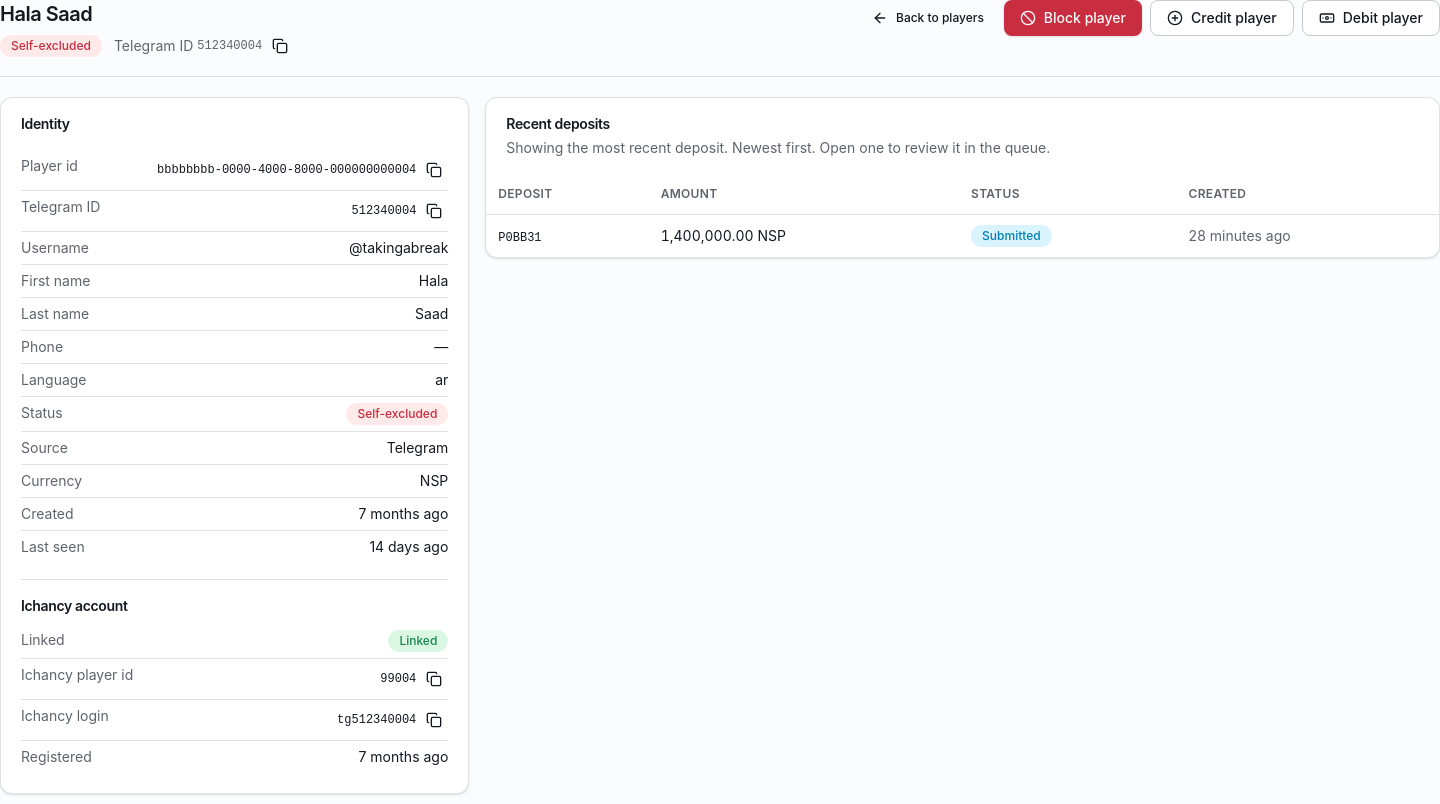
Test: PlayerDetailPage: taking money back out › says plainly when nobody knows whether the debit landed
Click the button "Debit player".
click(1371, 18)  # box [1302, 0, 1439, 36]
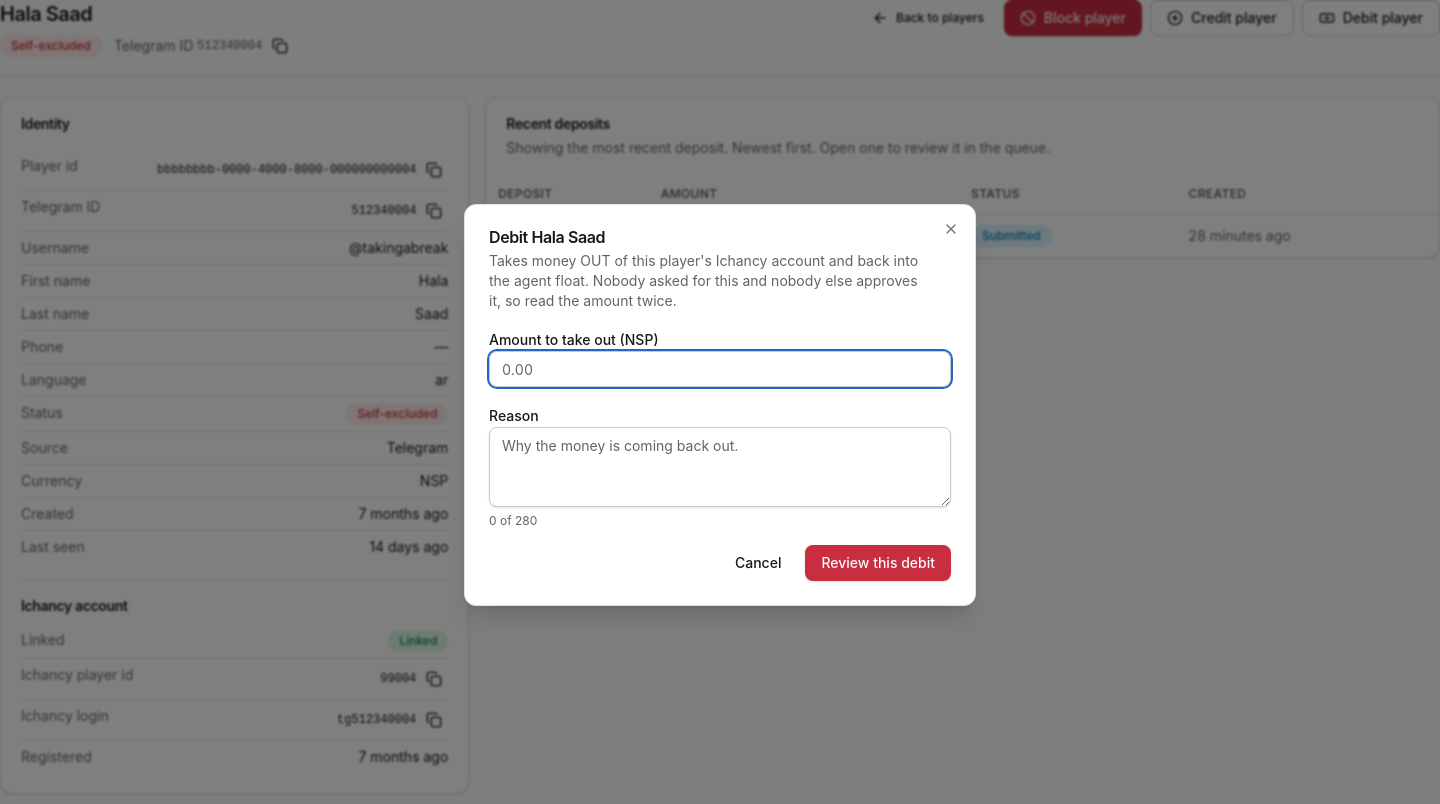
Type "100.00" into the field labelled "Amount to take out (NSP)".
click(720, 369); type("100.00")  # box [489, 351, 951, 387]
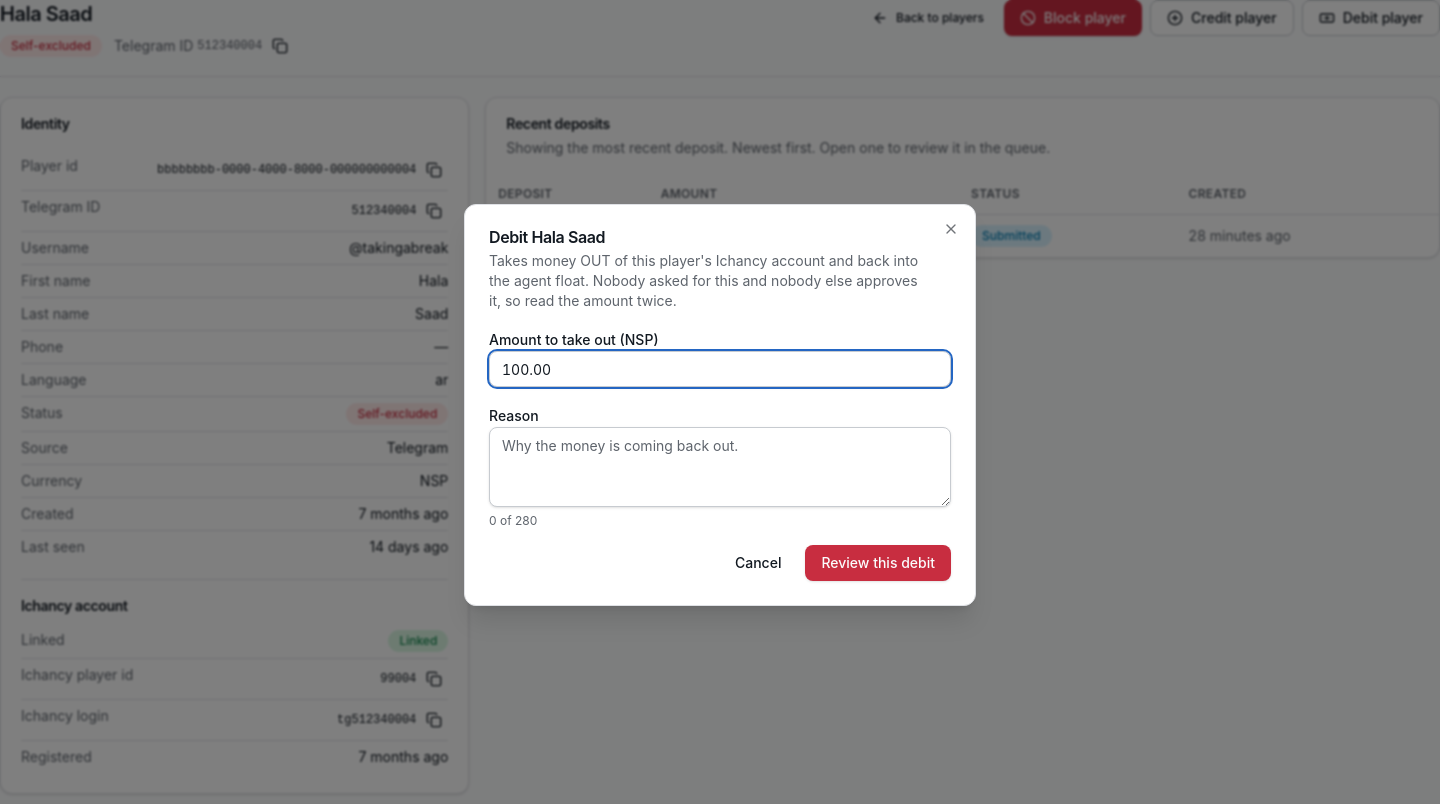
Type "Self-exclusion settlement" into the text box labelled "Reason".
click(720, 467); type("Self-exclusion settlement")  # box [489, 427, 951, 507]
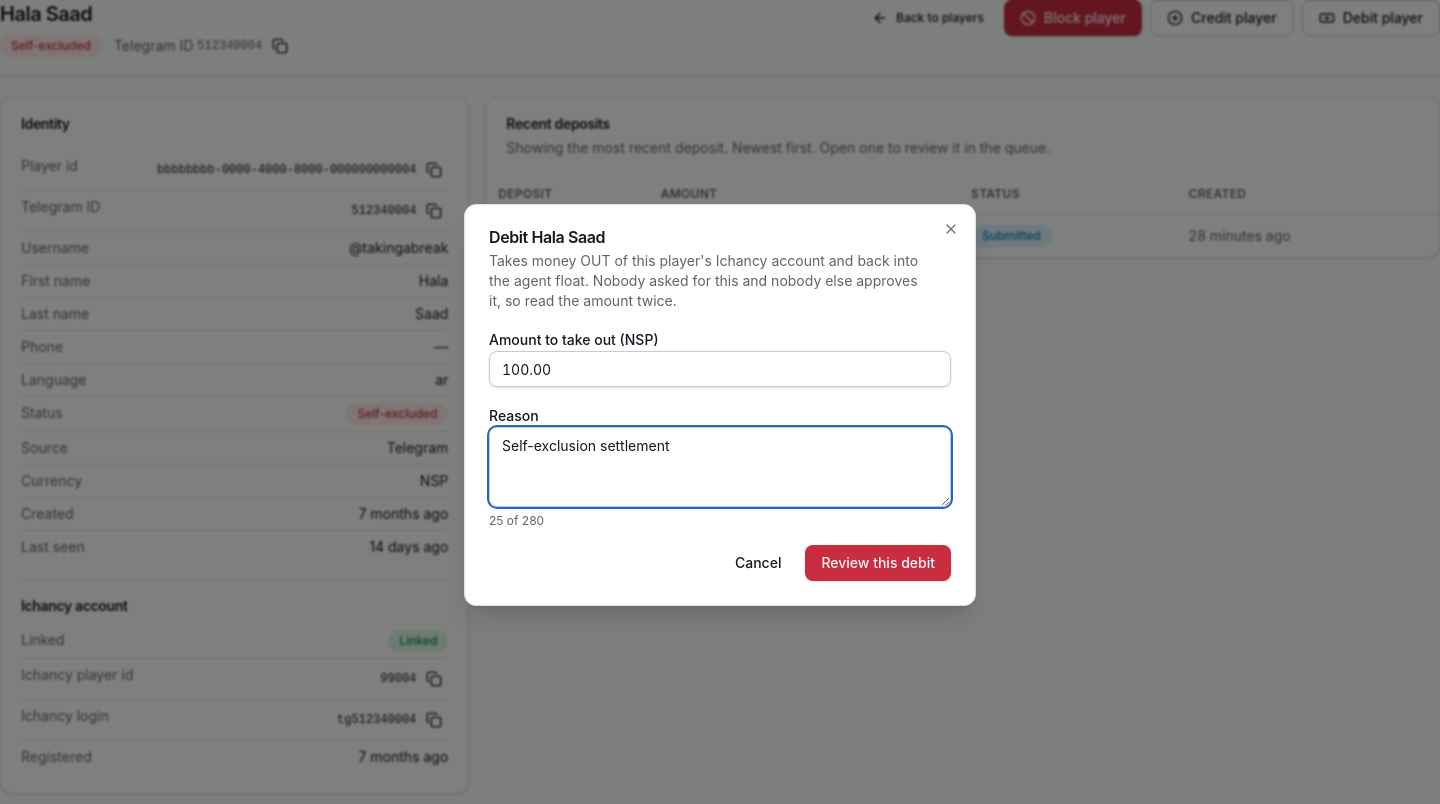
Click the button "Review this debit".
click(878, 563)  # box [805, 545, 951, 581]
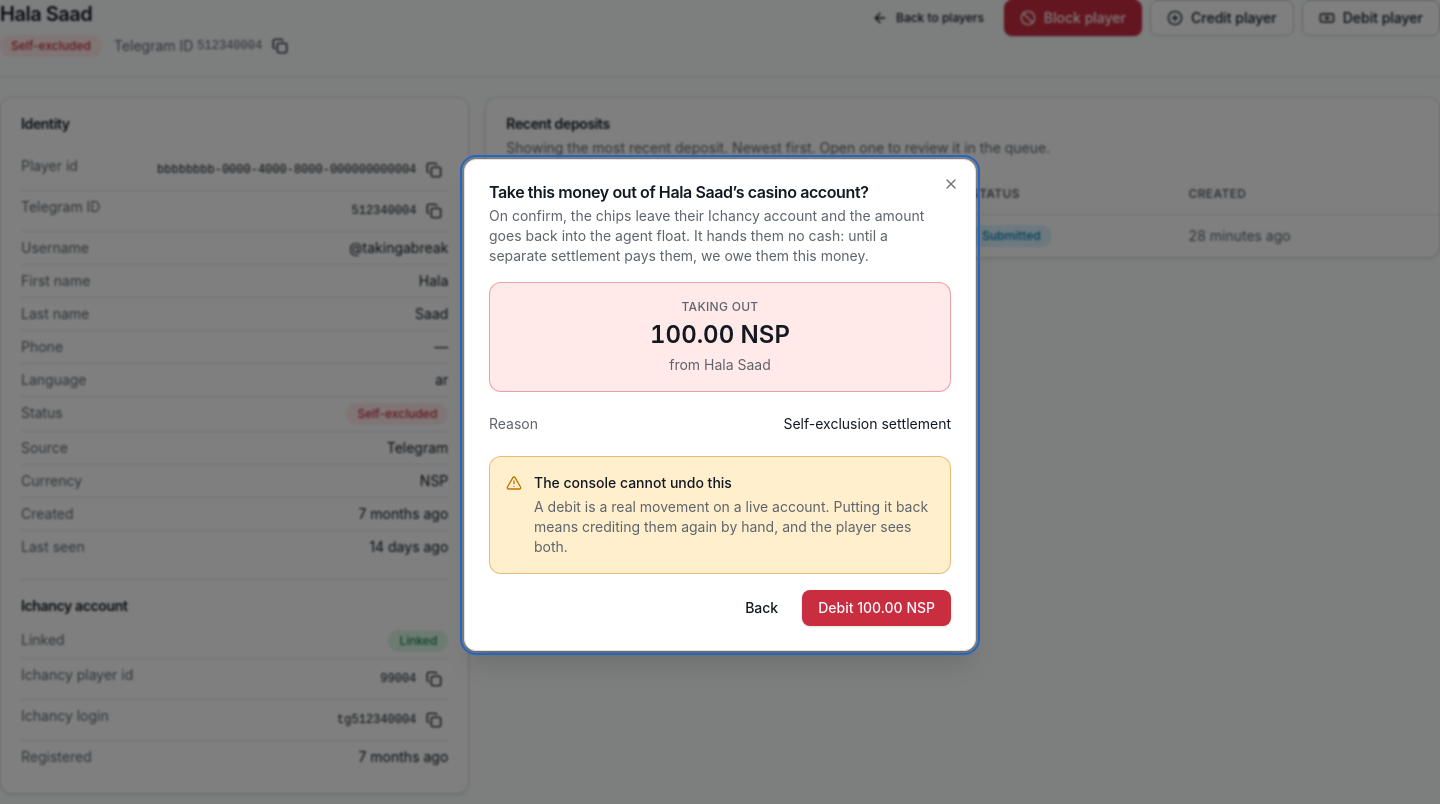
Click the button "Debit 100.00 NSP".
click(877, 608)  # box [802, 590, 951, 626]
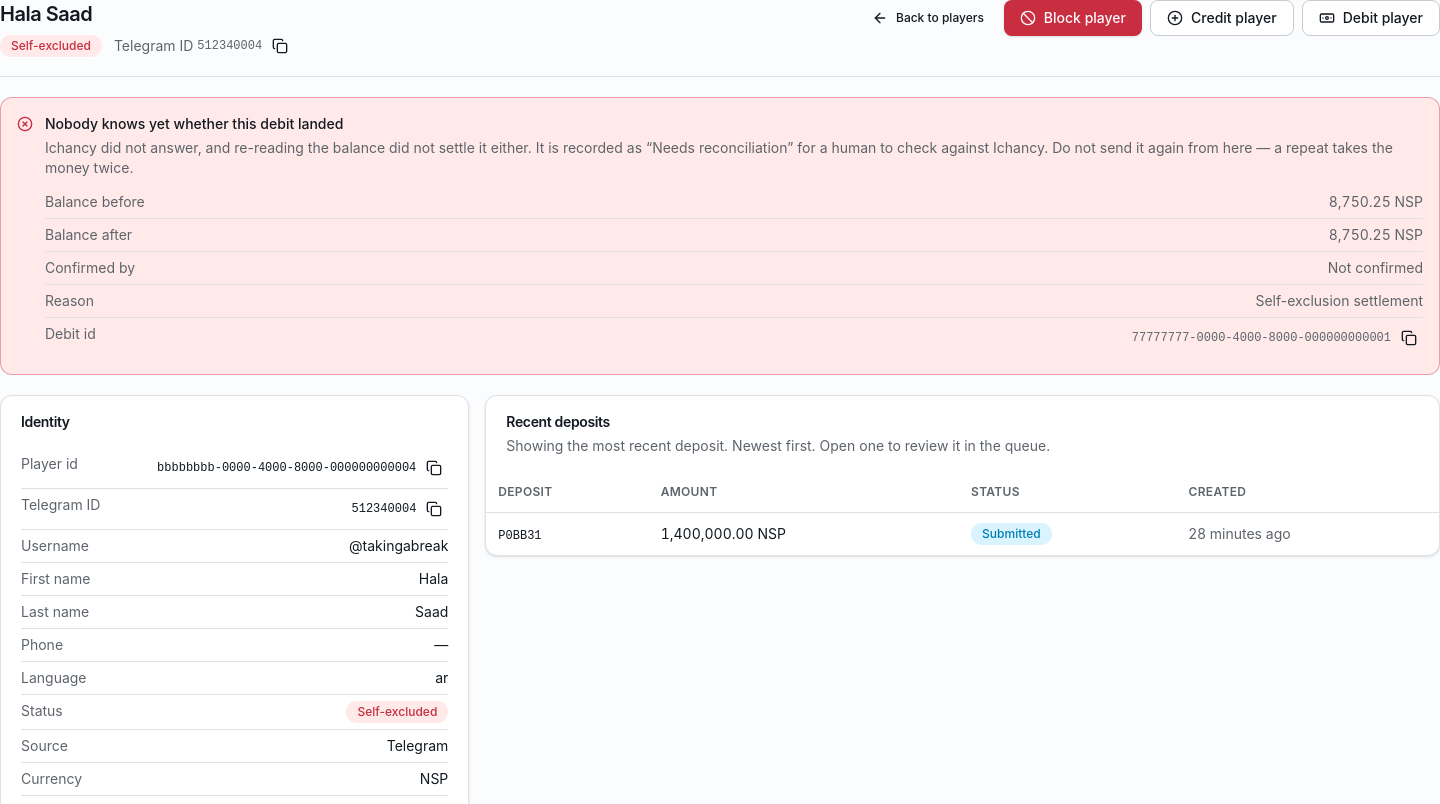
Check: the text "Nobody knows yet whether this debit landed" is shown, box [45, 115, 343, 132]
Check: the text "Do not send it again from here" is shown, box [45, 139, 1393, 176]
Check: the text "Not confirmed" is shown, box [1328, 258, 1423, 278]
